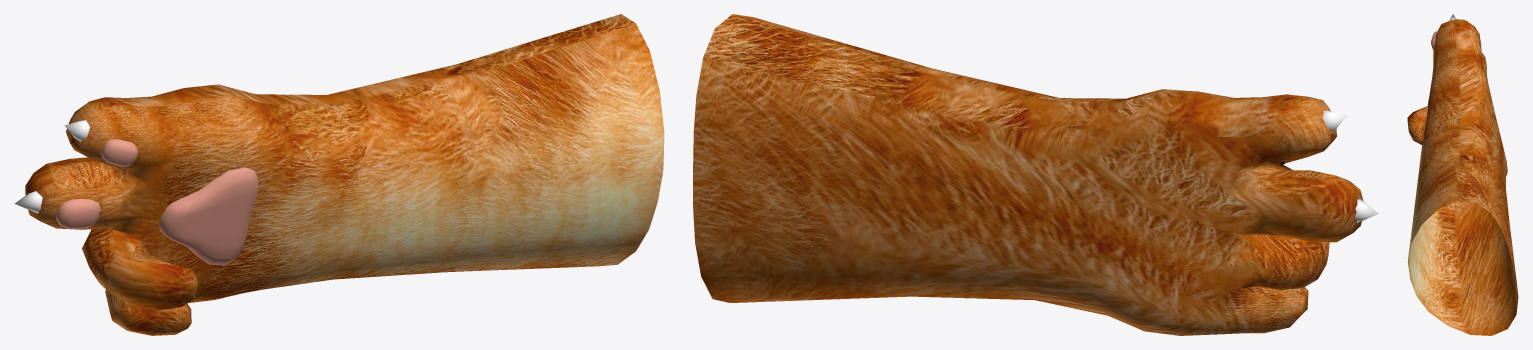
File: scissorOrange.glb
3 renders of one model, left to right at view 1: azimuth 30°, elevation 25°; view 2: azimuth 150°, elevation 25°; view 3: azimuth 270°, elevation 25°, orthographic. The views are drawn at different scales.
Visible parts, largest first — view 1: Sissor; view 2: Sissor; view 3: Sissor.
Part boxes in pixels (x1,y1,x2,y2): Sissor: (15, 14, 664, 335); Sissor: (693, 14, 1378, 335); Sissor: (1407, 14, 1518, 335).
Bounding box in the file's own units: 1.04 × 0.475 × 0.2795.
3 materials, 1 textured.
